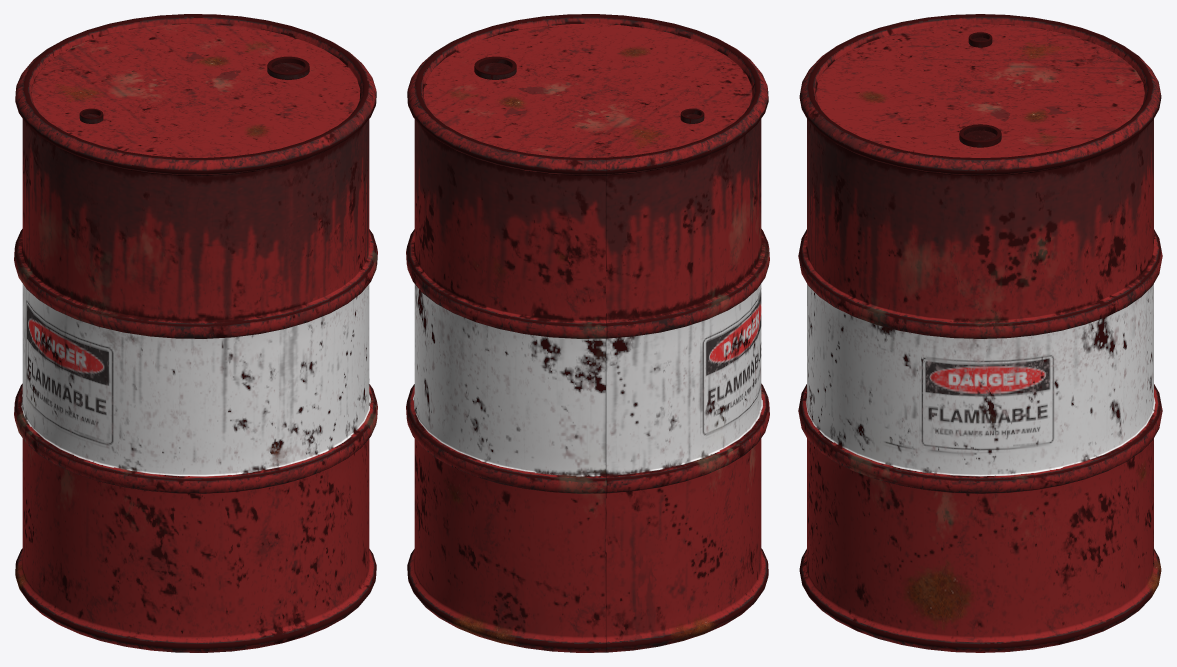
The model's file is oil3.glb.
3 views of the same model, side by side, from view 1: azimuth 30°, elevation 25°; view 2: azimuth 150°, elevation 25°; view 3: azimuth 270°, elevation 25° (orthographic).
Visible parts, largest first — view 1: pCylinder1, pCylinder1_center_0, pPipe1; view 2: pCylinder1, pCylinder1_center_0, pPipe1; view 3: pCylinder1, pCylinder1_center_0, pPipe1.
Boxes of the visible parts, x1,y1,x2,y2 form: pCylinder1: (14,14,377,652); pCylinder1_center_0: (21,284,370,476); pPipe1: (267,56,309,79); pCylinder1: (406,14,769,652); pCylinder1_center_0: (413,284,762,476); pPipe1: (474,56,516,79); pCylinder1: (798,14,1162,652); pCylinder1_center_0: (806,284,1154,476); pPipe1: (959,124,1001,147).
Size of the model in its own units: 4.28 by 6.4 by 4.28.
3 materials, 3 textured.
